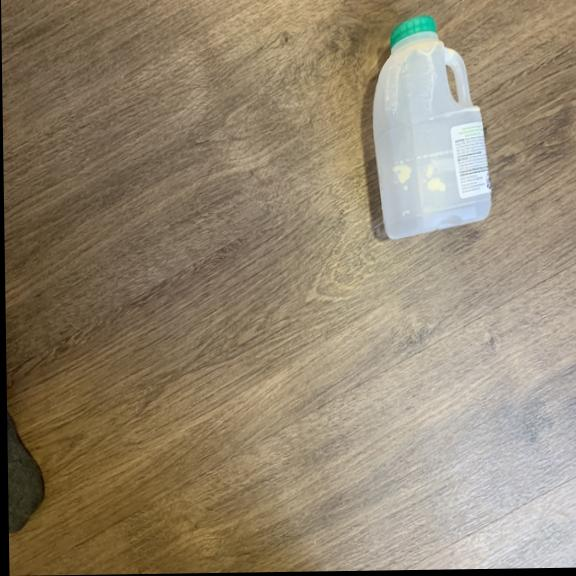Plastik: (366, 11, 493, 246)
